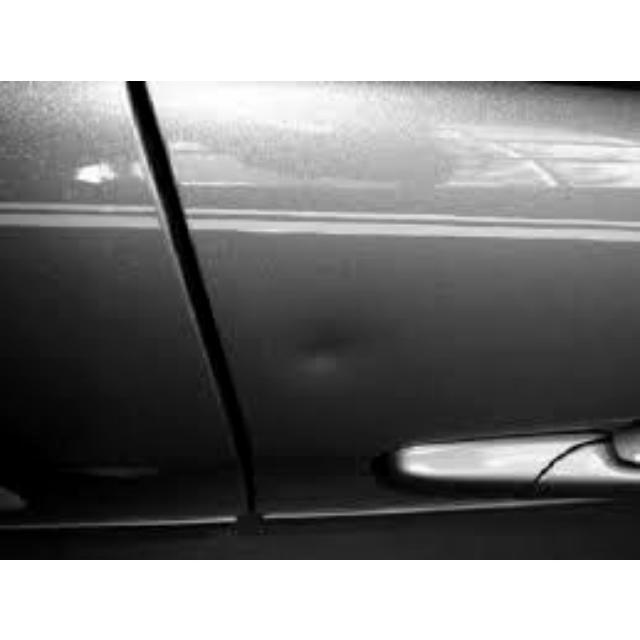doorouter-dent: (122, 85, 571, 552)
